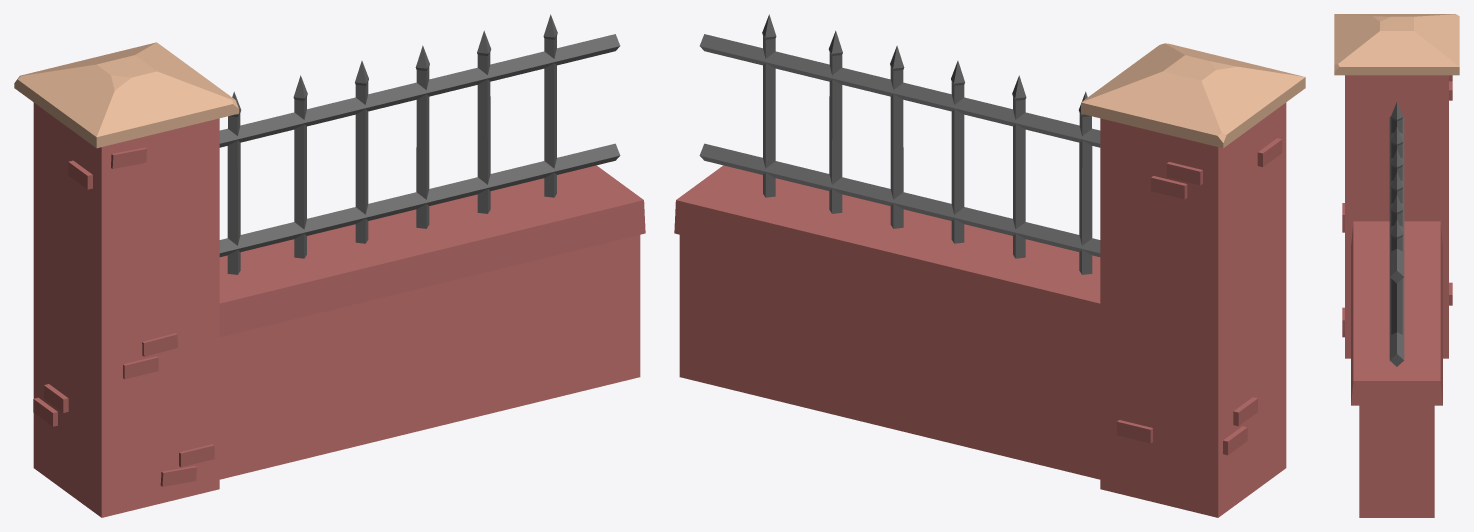
The model's file is fence_piece.glb.
3 views of the same model, side by side, from view 1: azimuth 30°, elevation 25°; view 2: azimuth 150°, elevation 25°; view 3: azimuth 270°, elevation 25° (orthographic). The views are drawn at different scales.
Parts seen in each view (by area): view 1: FencePiece_76bb5b, FencePiece_f90f82, FencePiece_4e24fa, FencePiece_5f610f; view 2: FencePiece_76bb5b, FencePiece_f90f82, FencePiece_4e24fa, FencePiece_5f610f; view 3: FencePiece_76bb5b, FencePiece_f90f82, FencePiece_5f610f, FencePiece_4e24fa.
Part boxes in pixels (x1,y1,x2,y2): FencePiece_76bb5b: (33,102,640,517); FencePiece_f90f82: (33,147,645,486); FencePiece_4e24fa: (219,14,620,274); FencePiece_5f610f: (14,42,238,148); FencePiece_76bb5b: (679,102,1286,517); FencePiece_f90f82: (674,138,1282,455); FencePiece_4e24fa: (699,14,1100,274); FencePiece_5f610f: (1081,43,1305,148); FencePiece_76bb5b: (1345,75,1448,517); FencePiece_f90f82: (1342,75,1452,404); FencePiece_5f610f: (1334,14,1459,75); FencePiece_4e24fa: (1389,102,1404,366).
Size of the model in its own units: 1.12 by 0.7876 by 0.286.
